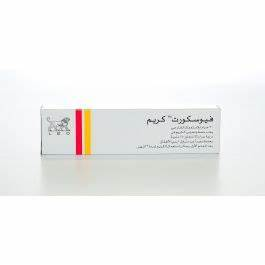Medicine: (38, 102, 224, 159)
